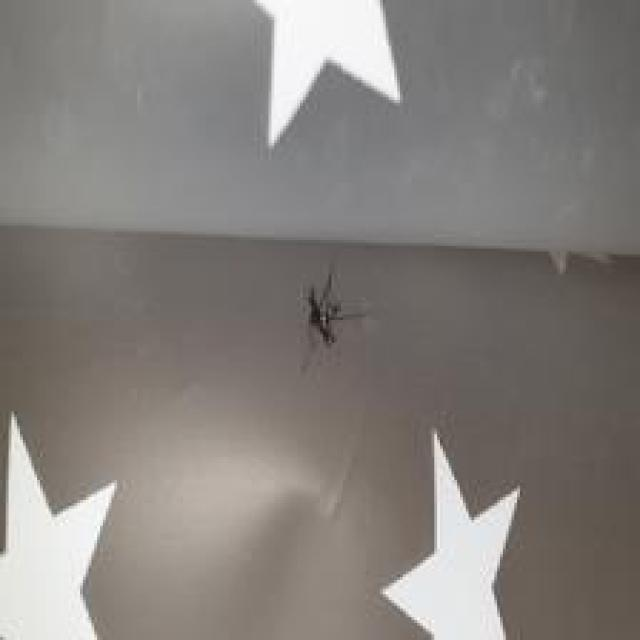Aedes albopictus: (378, 425, 524, 640)
